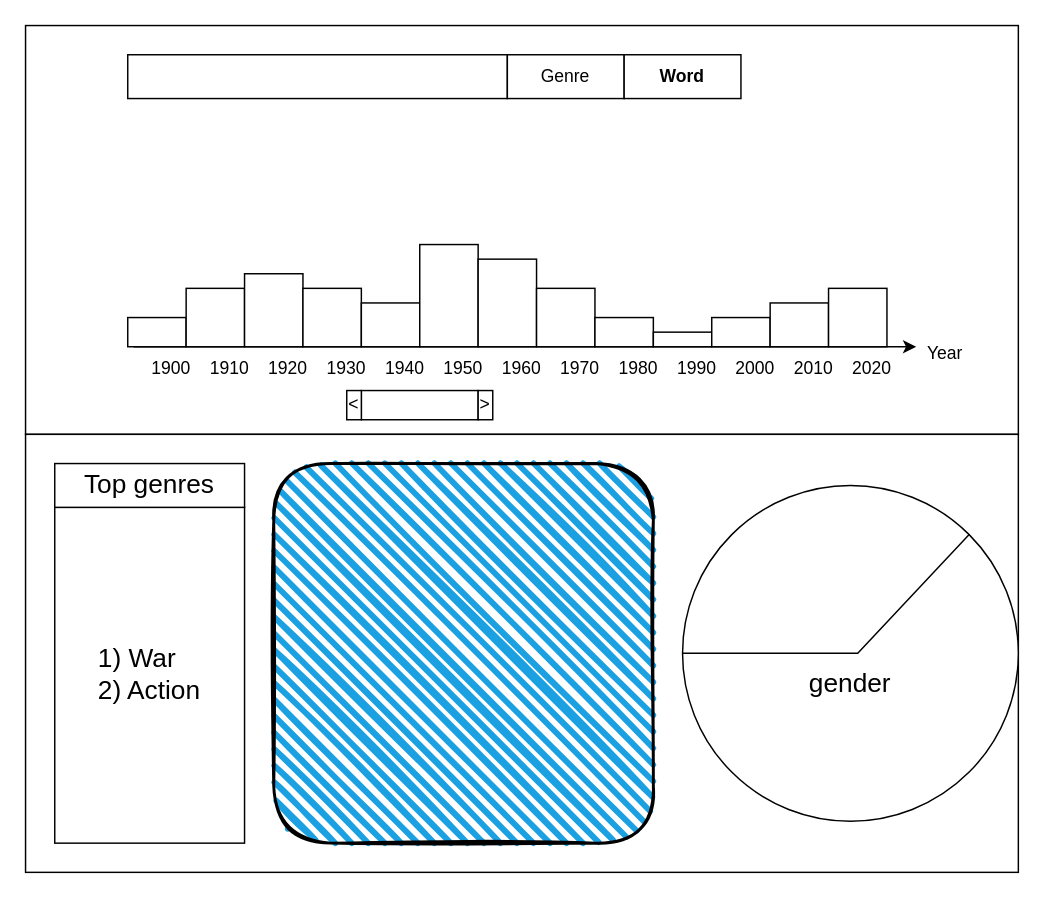
The diagram is 1044 pixels wide and 898 high, and some of its shapes have lost their labels. Here are the shapes that lost their labels. From the top down, the centre of each, then its label:
At point 316,76: "War".
At point 463,652: "WordCloud".
